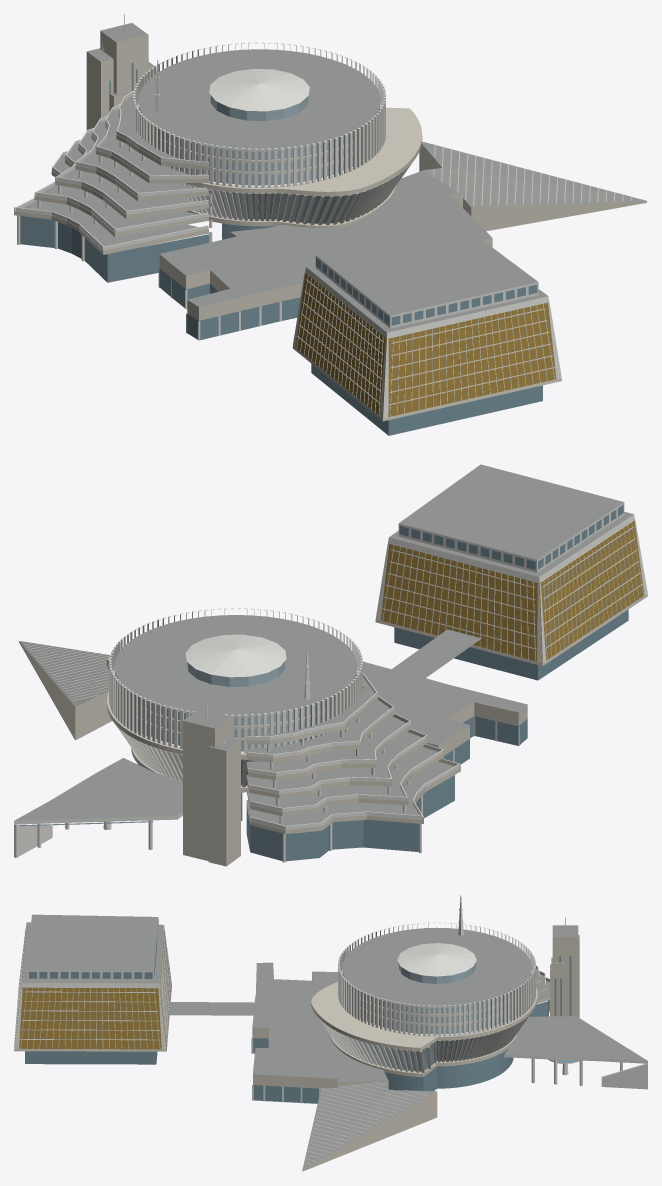
The model's file is casino-de-montreal-near.glb.
The picture shows the model from 3 angles, top to bottom: view 1: azimuth 30°, elevation 25°; view 2: azimuth 150°, elevation 25°; view 3: azimuth 270°, elevation 25°; orthographic projection. The views are drawn at different scales.
Parts seen in each view (by area): view 1: casino-de-montreal-0-roof, casino-de-montreal-0-alu, casino-de-montreal-0-concrete, casino-de-montreal-0-gold, casino-de-montreal-0-glass, casino-de-montreal-0-glow; view 2: casino-de-montreal-0-roof, casino-de-montreal-0-alu, casino-de-montreal-0-concrete, casino-de-montreal-0-gold, casino-de-montreal-0-glass, casino-de-montreal-0-glow; view 3: casino-de-montreal-0-roof, casino-de-montreal-0-alu, casino-de-montreal-0-concrete, casino-de-montreal-0-gold, casino-de-montreal-0-glass, casino-de-montreal-0-glow.
Boxes of the visible parts, <box> form: casino-de-montreal-0-roof: <box>14,23,646,332</box>; casino-de-montreal-0-alu: <box>14,14,561,418</box>; casino-de-montreal-0-concrete: <box>14,31,646,421</box>; casino-de-montreal-0-gold: <box>295,273,556,417</box>; casino-de-montreal-0-glass: <box>20,62,542,435</box>; casino-de-montreal-0-glow: <box>139,95,379,223</box>; casino-de-montreal-0-roof: <box>14,464,633,829</box>; casino-de-montreal-0-alu: <box>14,502,647,862</box>; casino-de-montreal-0-concrete: <box>19,594,647,866</box>; casino-de-montreal-0-gold: <box>381,520,644,662</box>; casino-de-montreal-0-glass: <box>137,505,628,861</box>; casino-de-montreal-0-glow: <box>19,661,356,826</box>; casino-de-montreal-0-roof: <box>22,914,647,1170</box>; casino-de-montreal-0-alu: <box>14,895,647,1103</box>; casino-de-montreal-0-concrete: <box>14,937,579,1171</box>; casino-de-montreal-0-gold: <box>14,931,171,1049</box>; casino-de-montreal-0-glass: <box>25,919,578,1103</box>; casino-de-montreal-0-glow: <box>342,963,531,1071</box>.
Bounding box in the file's own units: 146 × 44 × 198.
